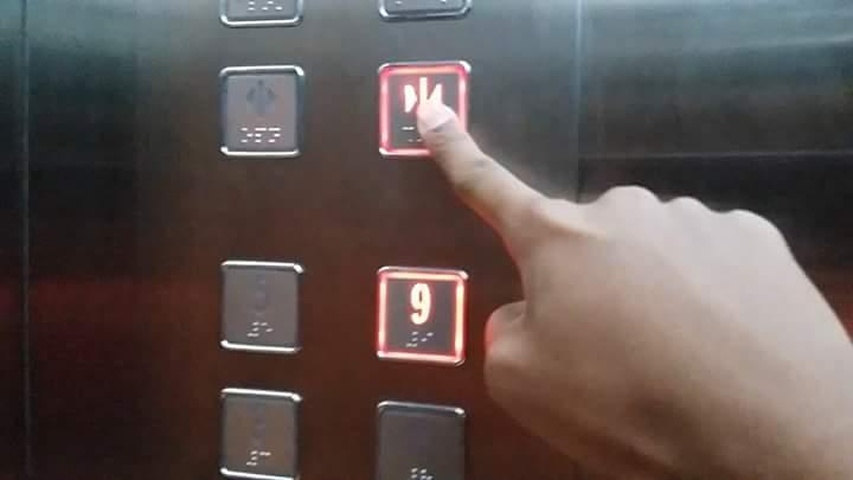5: (207, 252, 311, 364)
9: (369, 260, 473, 372)
close: (369, 53, 473, 165)
open: (208, 56, 312, 168)
